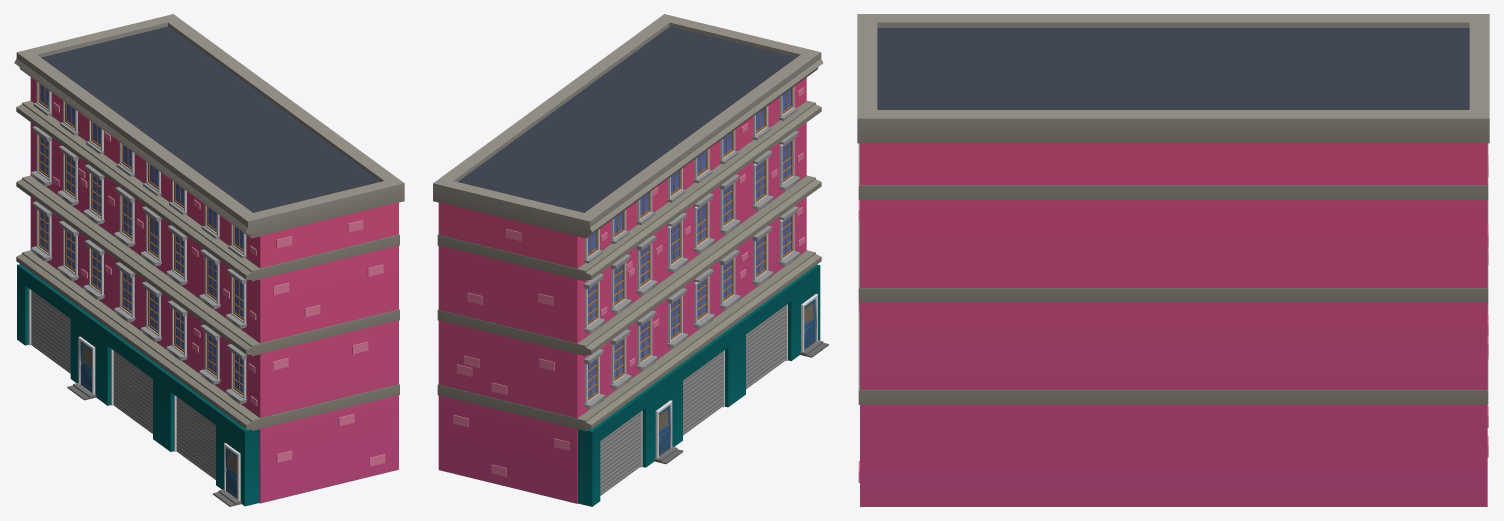
The model's file is Building_20_1_F.glb.
3 views of the same model, side by side, from view 1: azimuth 30°, elevation 25°; view 2: azimuth 150°, elevation 25°; view 3: azimuth 270°, elevation 25° (orthographic). The views are drawn at different scales.
Parts seen in each view (by area): view 1: Building_20_1_F; view 2: Building_20_1_F; view 3: Building_20_1_F.
Boxes of the visible parts, x1,y1,x2,y2 form: Building_20_1_F: (14, 14, 404, 506); Building_20_1_F: (433, 14, 828, 506); Building_20_1_F: (857, 14, 1489, 506).
Size of the model in its own units: 7.74 by 12.47 by 18.27.
Materials: 4 (4 with a texture image).
